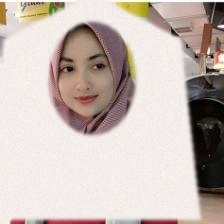Mukena: (0, 0, 201, 218)
